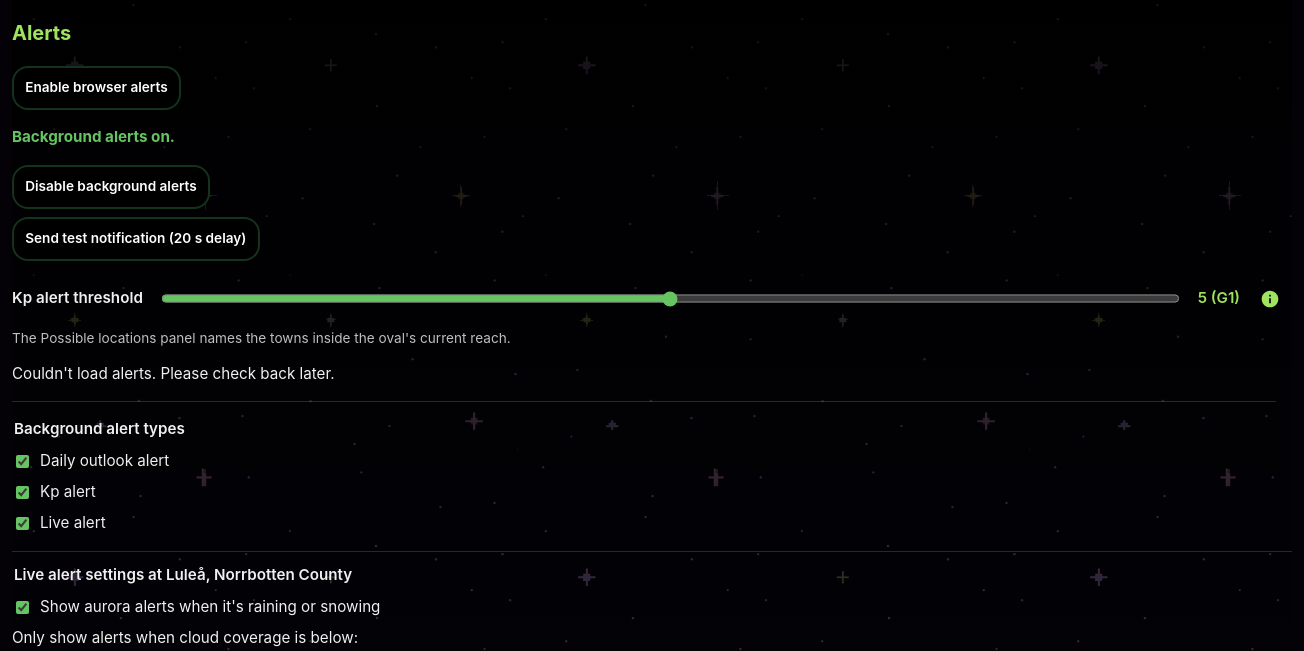
background alerts (push foundation, ticket 02) › a failed test poke says so instead of staying silent
This screenshot has width=1304, height=651.
What coordinates should you click on to do the following:
click the button "Send test notification (20 s delay)"
I would click on:
 (136, 239)
Its box is top-left (12, 217), bottom-right (260, 261).
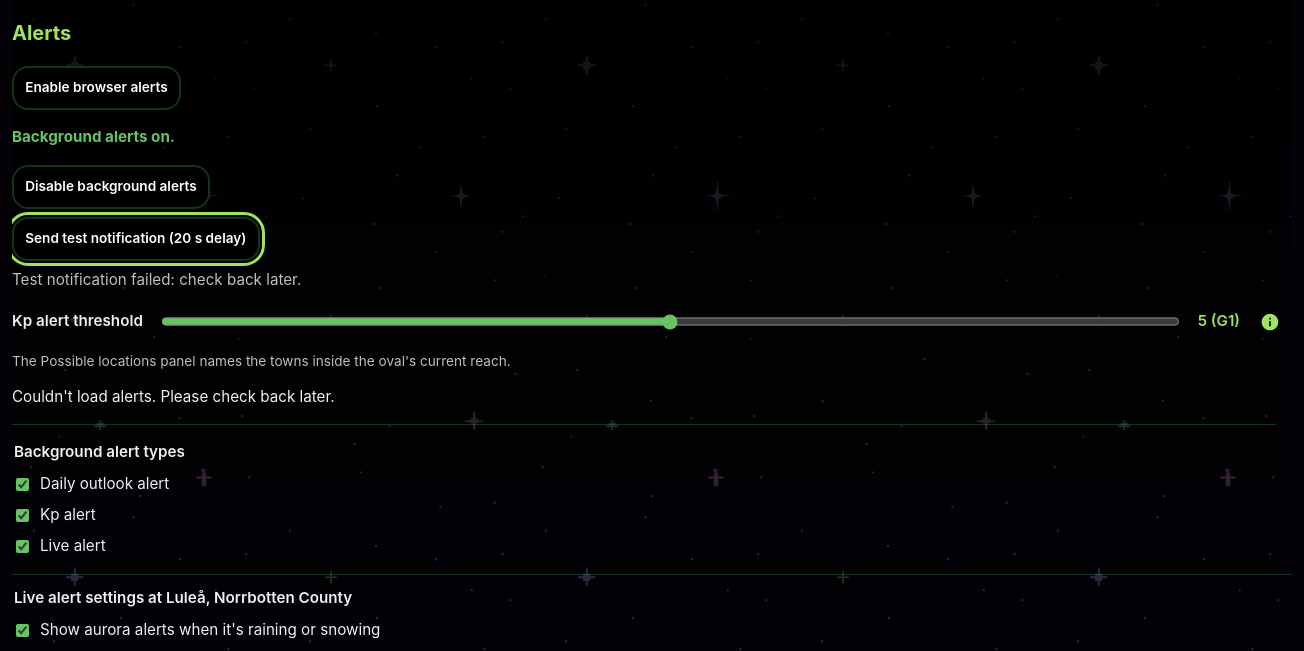
Now the text "Test notification failed: check back later." is shown, box top-left (12, 269), bottom-right (301, 292)
